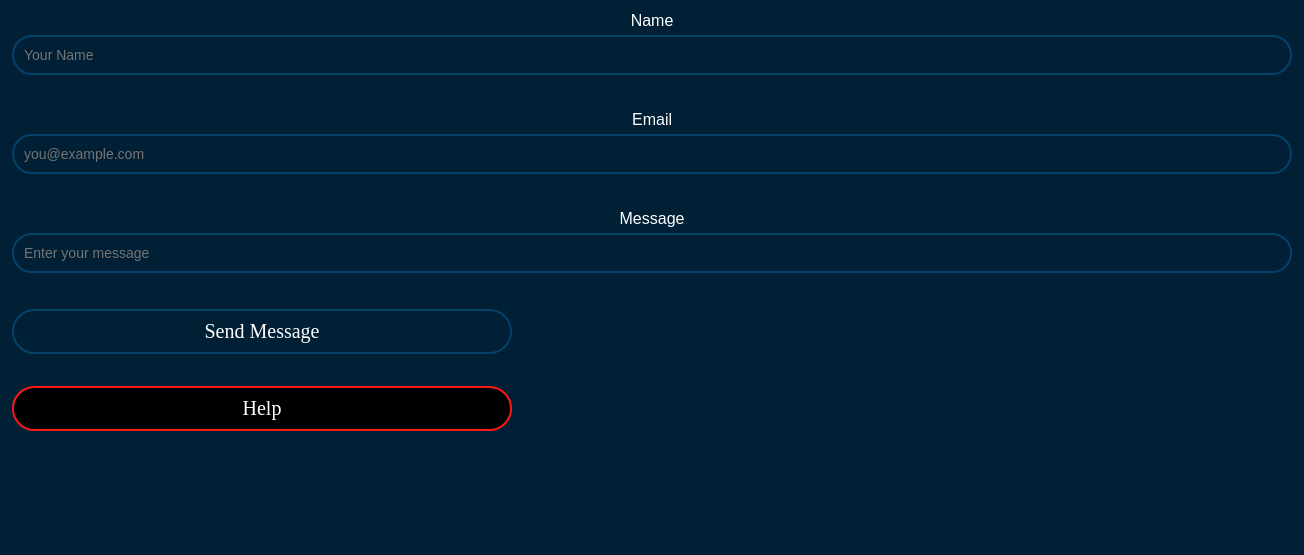
it: ContactForm › submits successfully and shows success modal
Type "Jane" into the field labelled "Name" at (652, 55), box [12,35,1292,75]
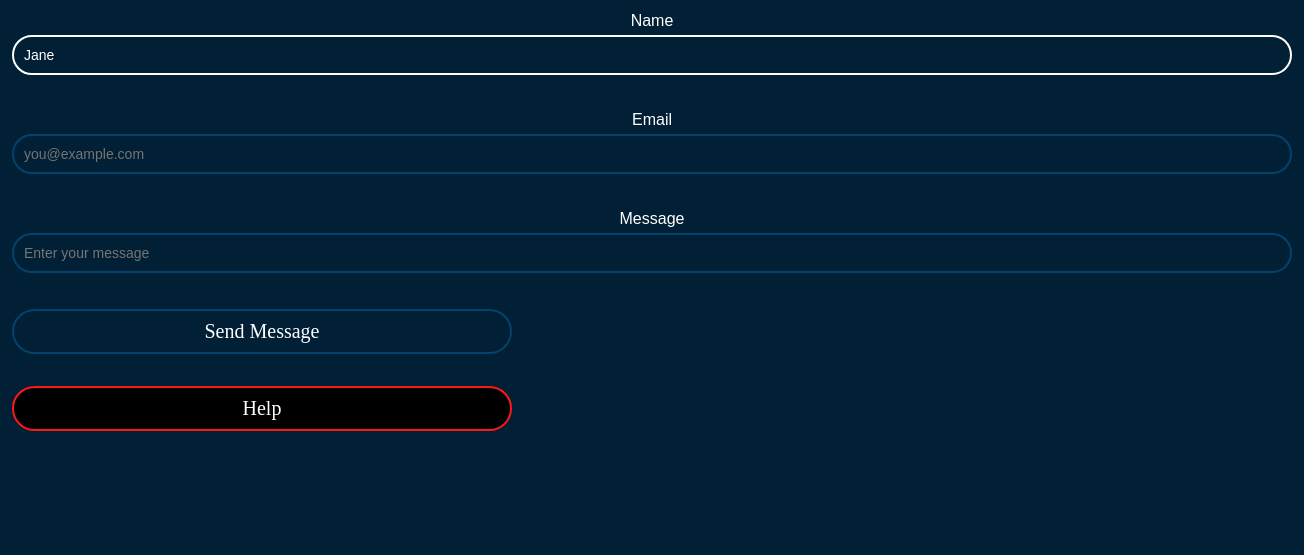
Type "jane@example.com" into the field labelled "Email" at (652, 154), box [12,134,1292,174]
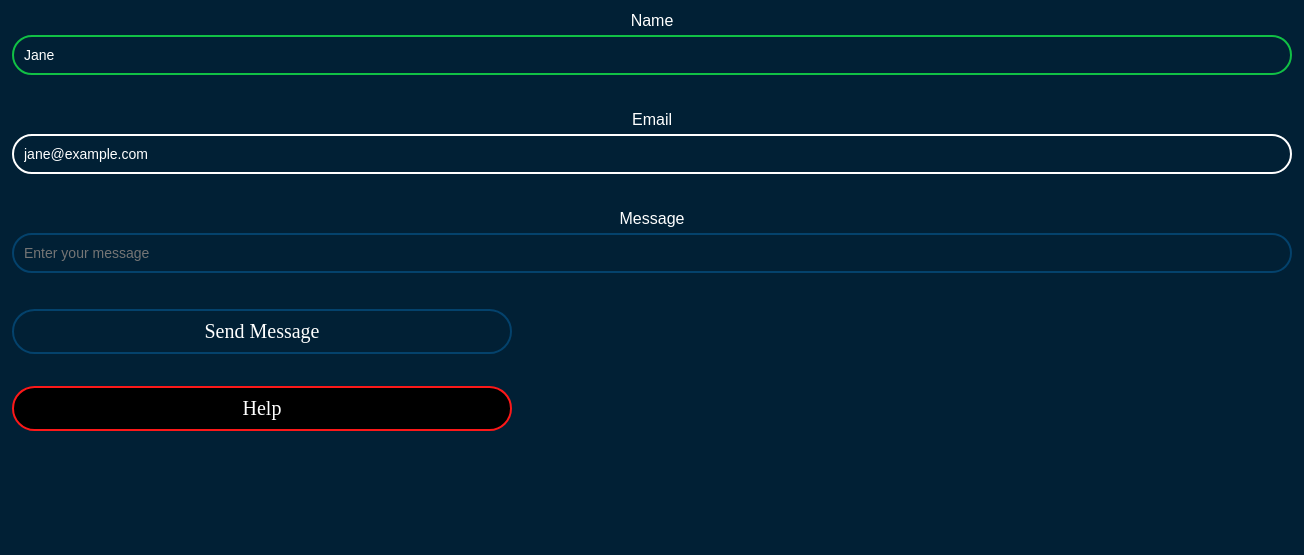
Type "Hello world" into the field labelled "Message" at (652, 253), box [12,233,1292,273]
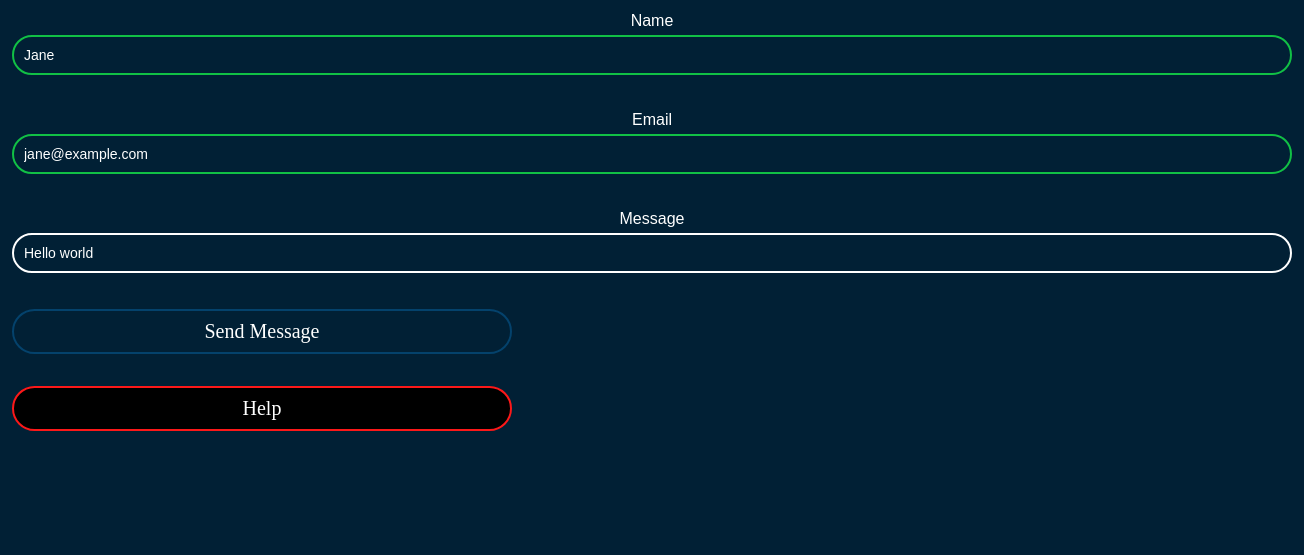
Click the button "Send Message" at (262, 332), box [12,309,512,354]
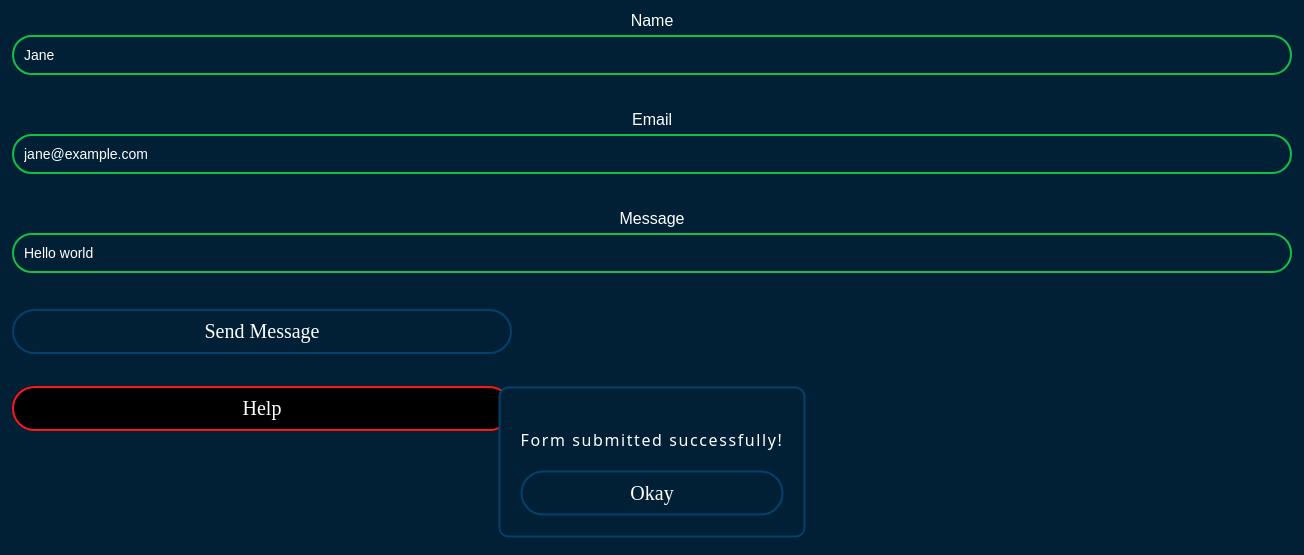
Result: the text "Form submitted successfully!" is shown at [520,428,784,450]
